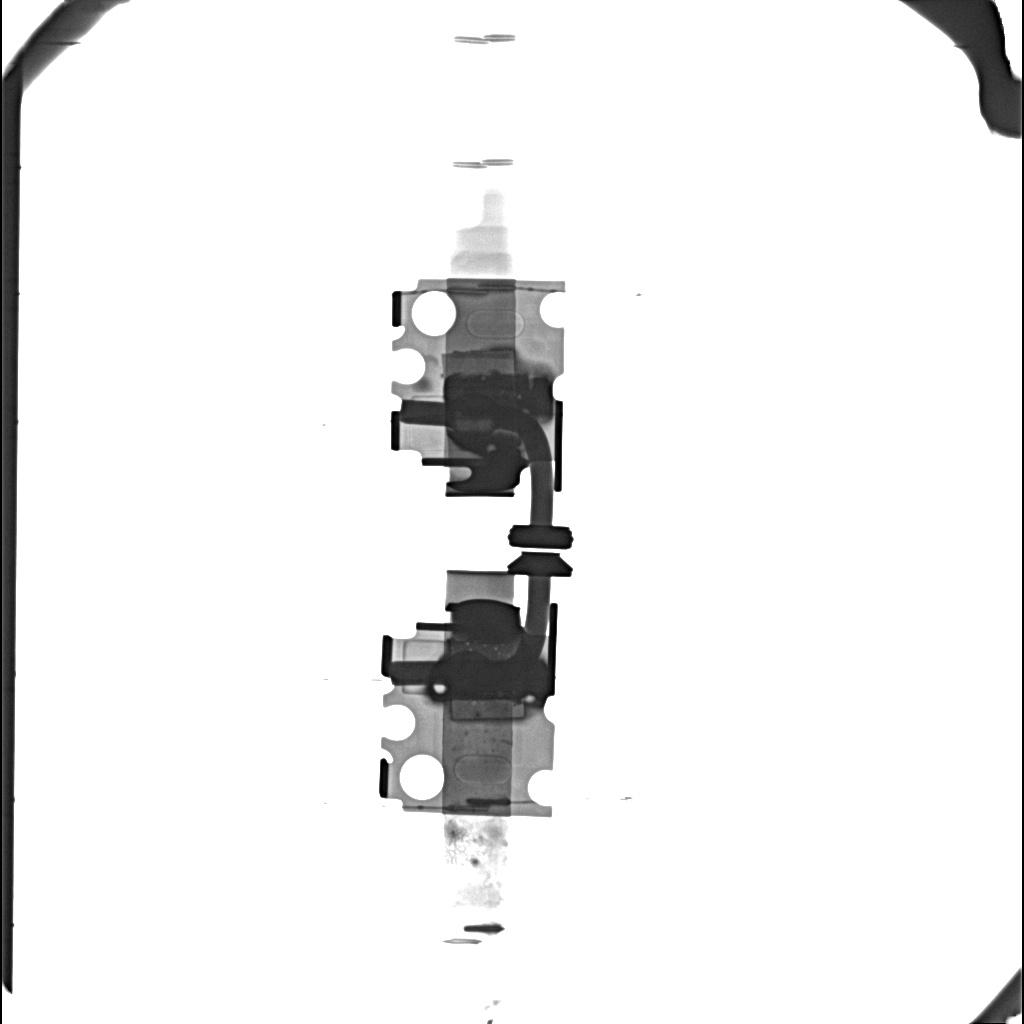气孔: (444, 349, 516, 374), (450, 701, 526, 721)
气泡: (487, 443, 496, 452)
水纹: (428, 660, 545, 704), (444, 375, 552, 420)
